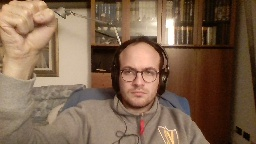Pugno: (0, 0, 60, 58)
